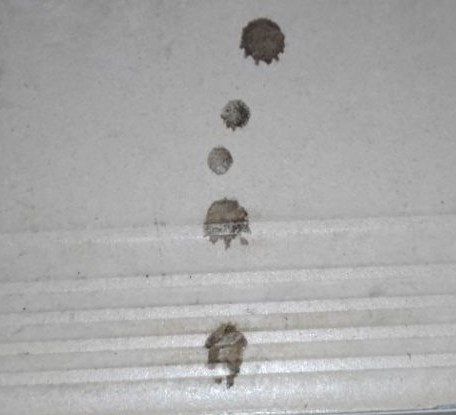grey spot: (204, 321, 247, 389), (203, 196, 251, 248), (238, 17, 285, 65), (220, 99, 250, 131)
